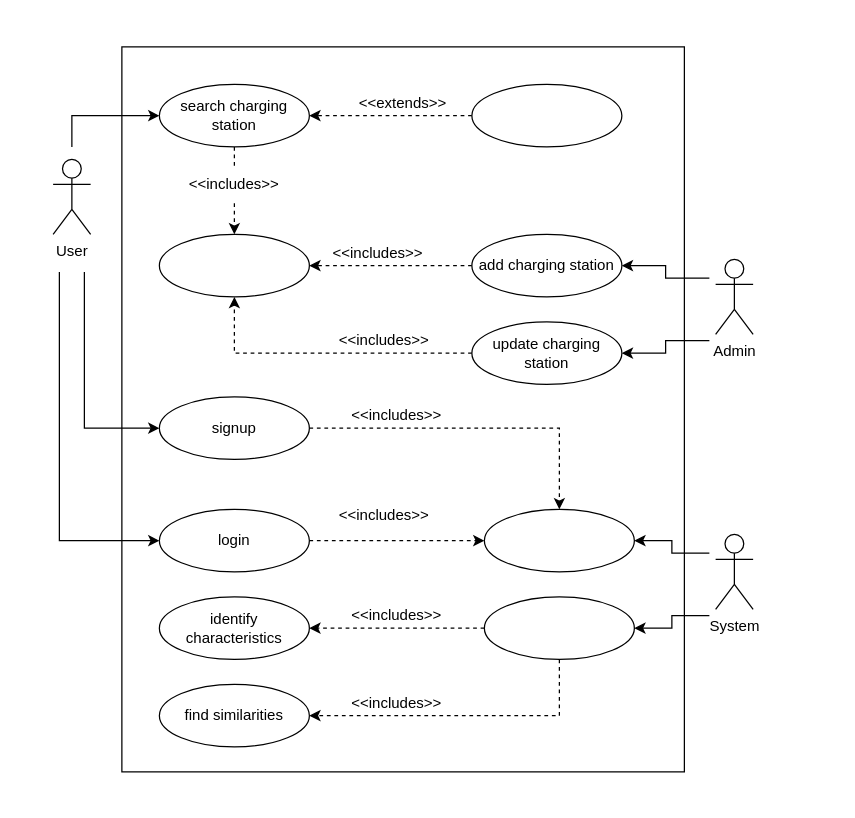
Some shapes in this 855 by 818 pixel diagram are drawn without their labels. Here are the shapes that lost their labels. From the top down, the box of each, then its label:
(471, 83, 622, 147): provide rating
(158, 233, 309, 297): location
(483, 508, 634, 572): verify
(483, 596, 634, 659): recommend a station
